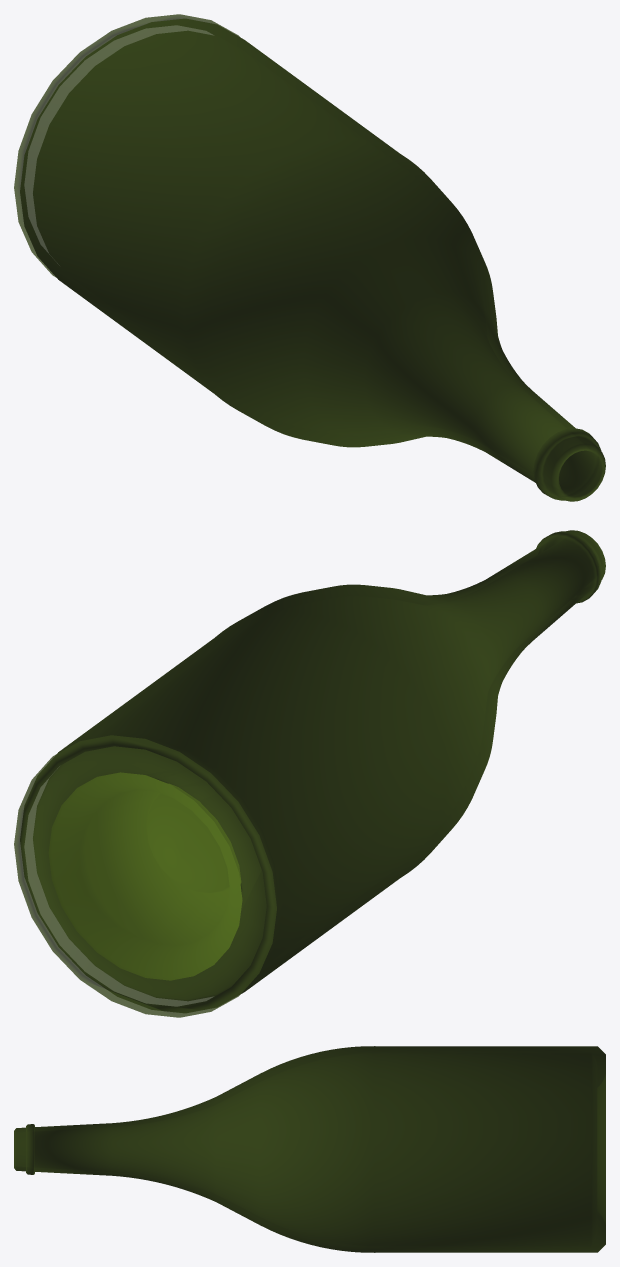
Rendered from model_align.obj.
The picture shows the model from 3 angles, top to bottom: view 1: azimuth 30°, elevation 25°; view 2: azimuth 150°, elevation 25°; view 3: azimuth 270°, elevation 25°; orthographic projection. The views are drawn at different scales.
Parts seen in each view (by area): view 1: mesh1_mesh1-geometry; view 2: mesh1_mesh1-geometry, mesh2_mesh2-geometry; view 3: mesh1_mesh1-geometry, mesh2_mesh2-geometry.
Part boxes in pixels (x1,y1,x2,y2): mesh1_mesh1-geometry: (14,14,605,501); mesh1_mesh1-geometry: (14,530,605,1017); mesh2_mesh2-geometry: (48,772,242,980); mesh1_mesh1-geometry: (14,1046,605,1252); mesh2_mesh2-geometry: (598,1076,605,1222).
Bounding box in the file's own units: 0.0796 × 0.0796 × 0.2271.
